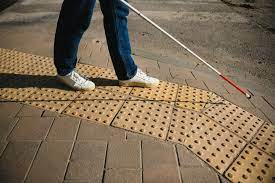guide_blocks: (76, 68, 183, 144), (186, 110, 275, 183), (1, 49, 67, 144)
